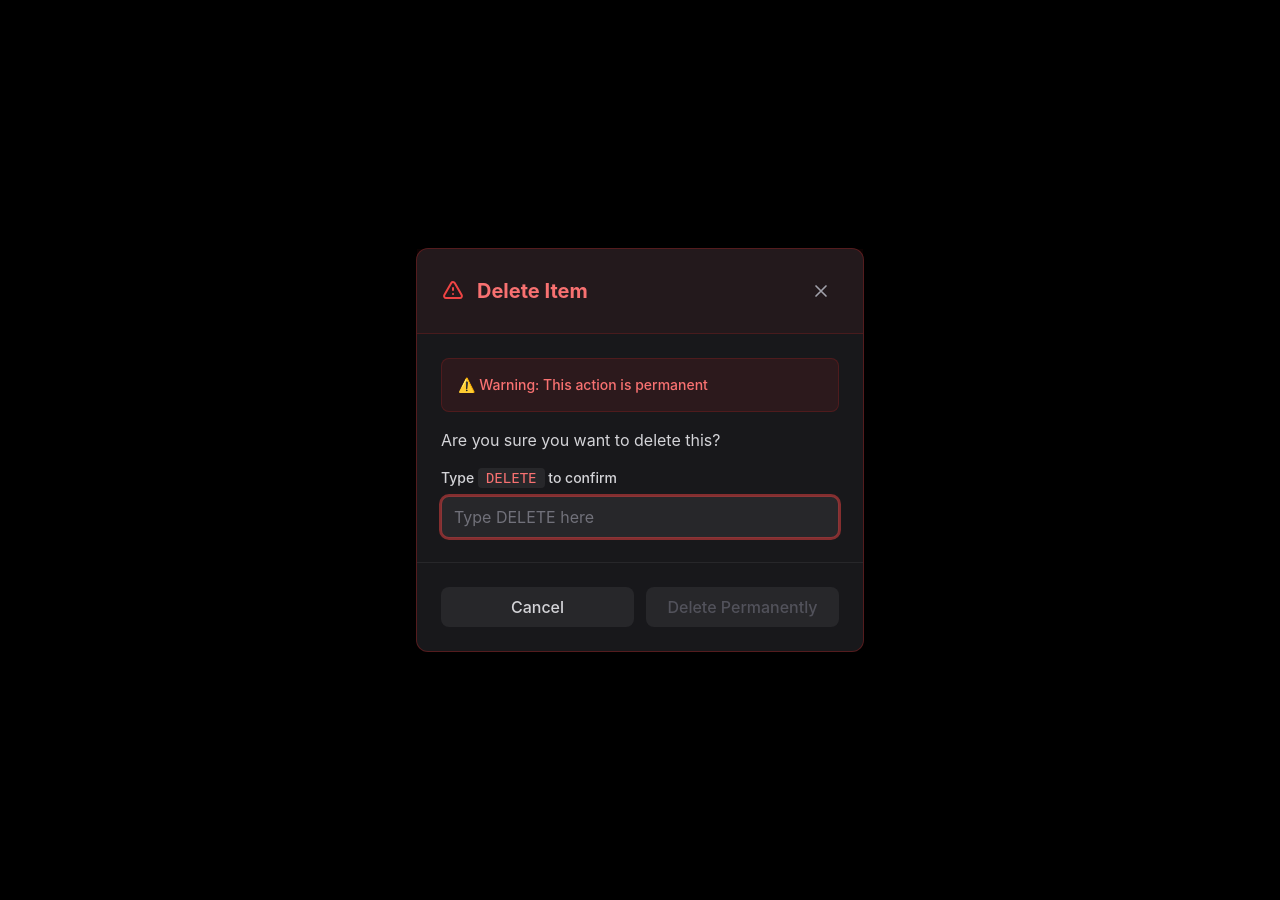
DeleteConfirmationModal › Confirmation Flow › enables button after typing DELETE
In the field with placeholder "Type DELETE here": (640, 517) [441,496,839,538], type "DELETE"
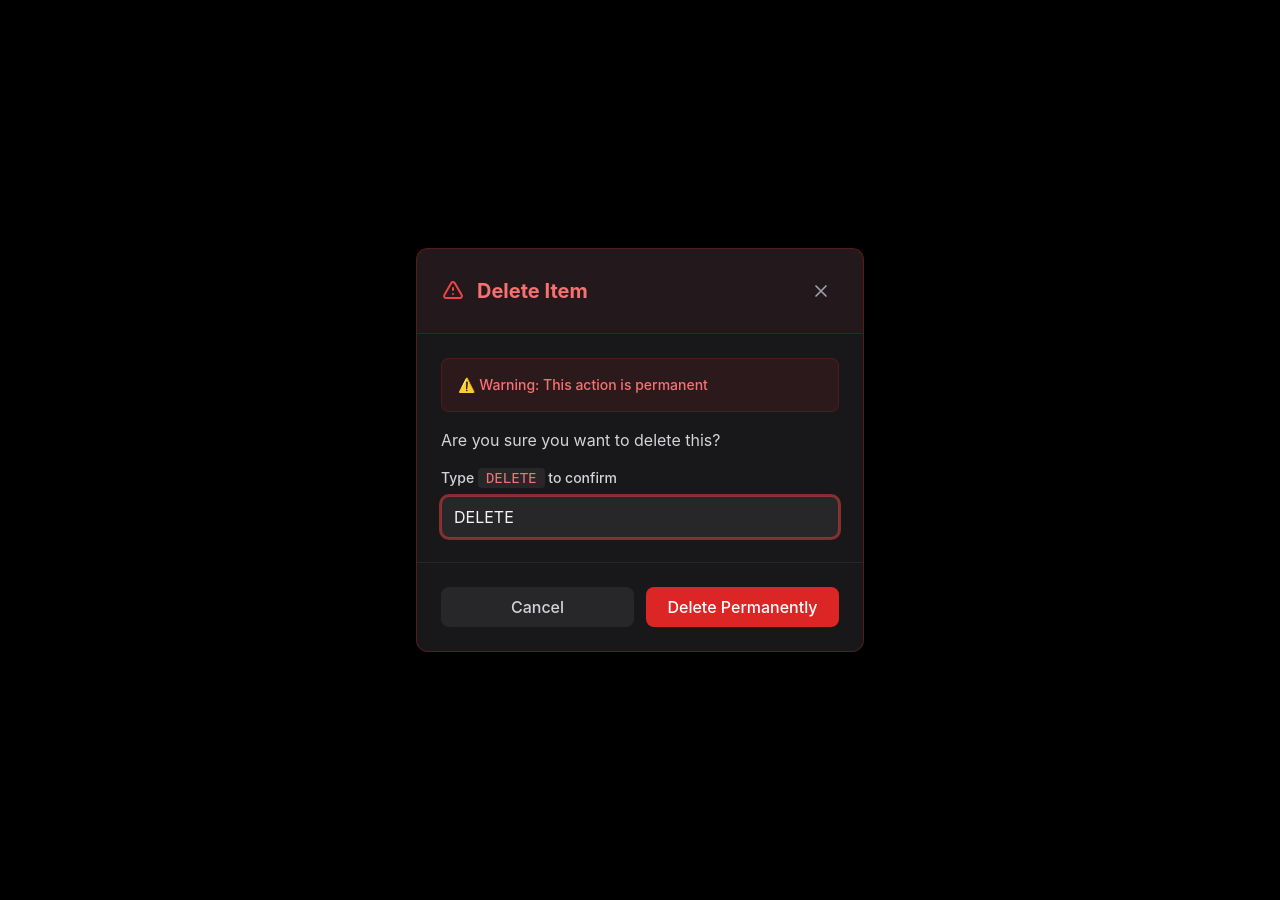
Expected: the button "Delete Permanently" is enabled, [646,587,839,627]
